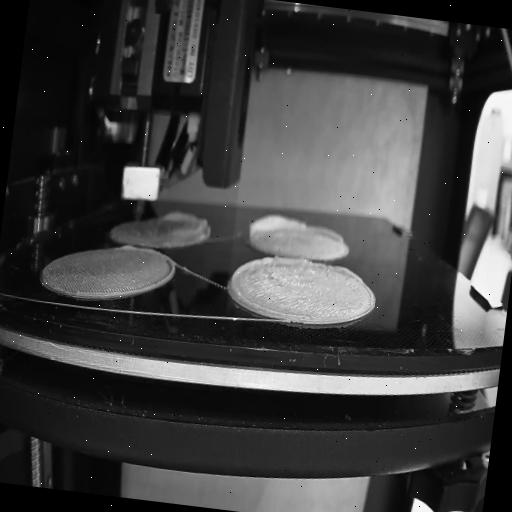over_extrusion: (227, 247, 314, 322), (241, 209, 315, 249), (156, 208, 212, 236), (326, 262, 366, 284), (316, 225, 347, 243), (116, 240, 138, 254)
